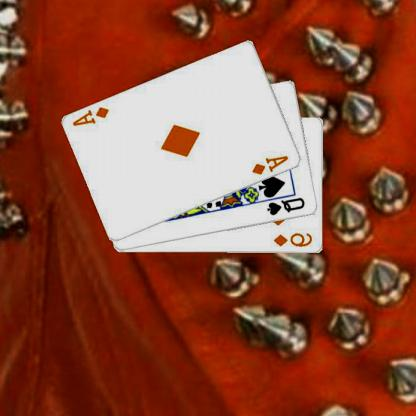6D: (273, 231, 316, 248)
AD: (72, 104, 113, 128), (251, 153, 292, 176)
QS: (266, 195, 308, 217)
